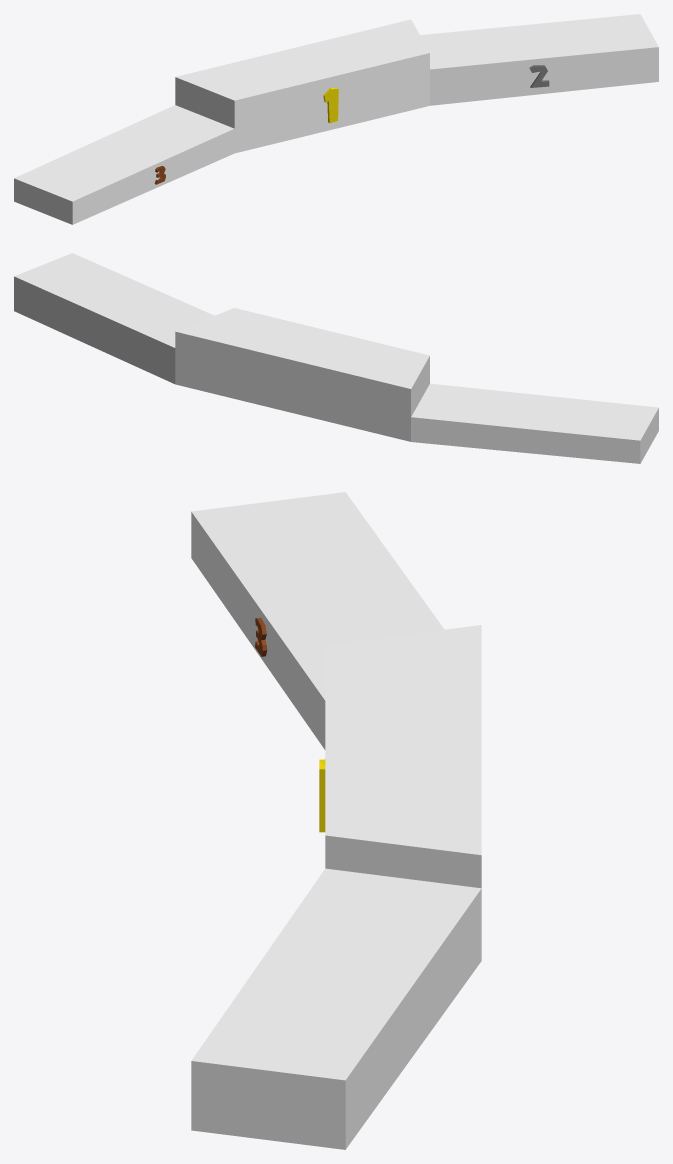
File: Podium_Big.fbx
3 views of the same model, one above another, from view 1: azimuth 30°, elevation 25°; view 2: azimuth 150°, elevation 25°; view 3: azimuth 270°, elevation 25° (orthographic). The views are drawn at different scales.
Visible parts, largest first — view 1: Podium_Big; view 2: Podium_Big; view 3: Podium_Big.
Part boxes in pixels (left/top/right/bottom): Podium_Big: left=14, top=14, right=658, bottom=224; Podium_Big: left=14, top=253, right=658, bottom=463; Podium_Big: left=191, top=492, right=481, bottom=1149.
Bounding box in the file's own units: 1302 × 105 × 261.
